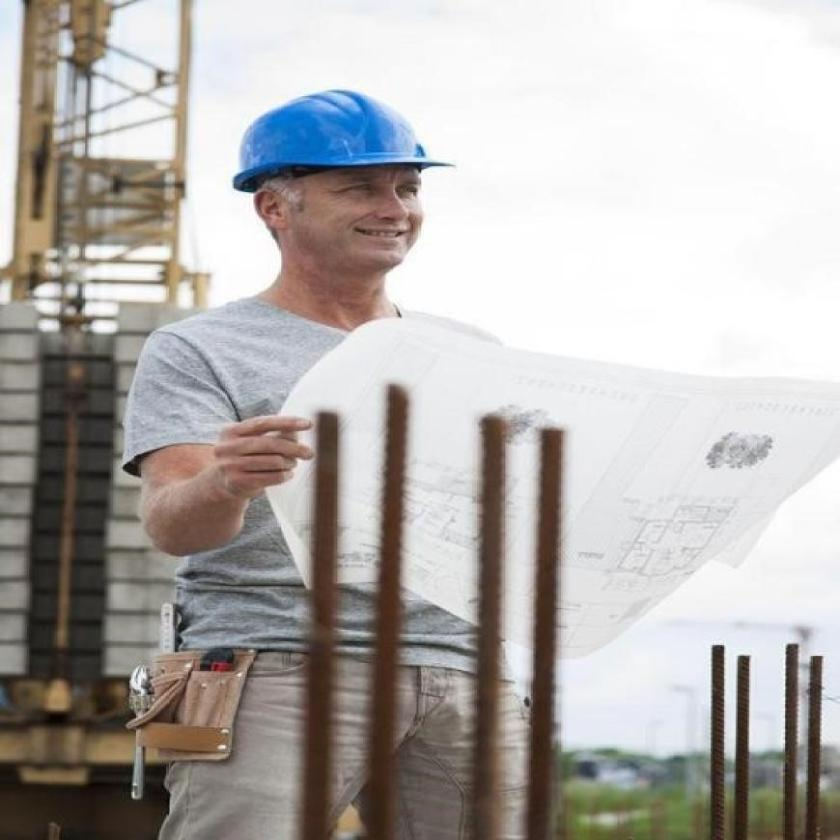Con_casco: (234, 74, 434, 288)
